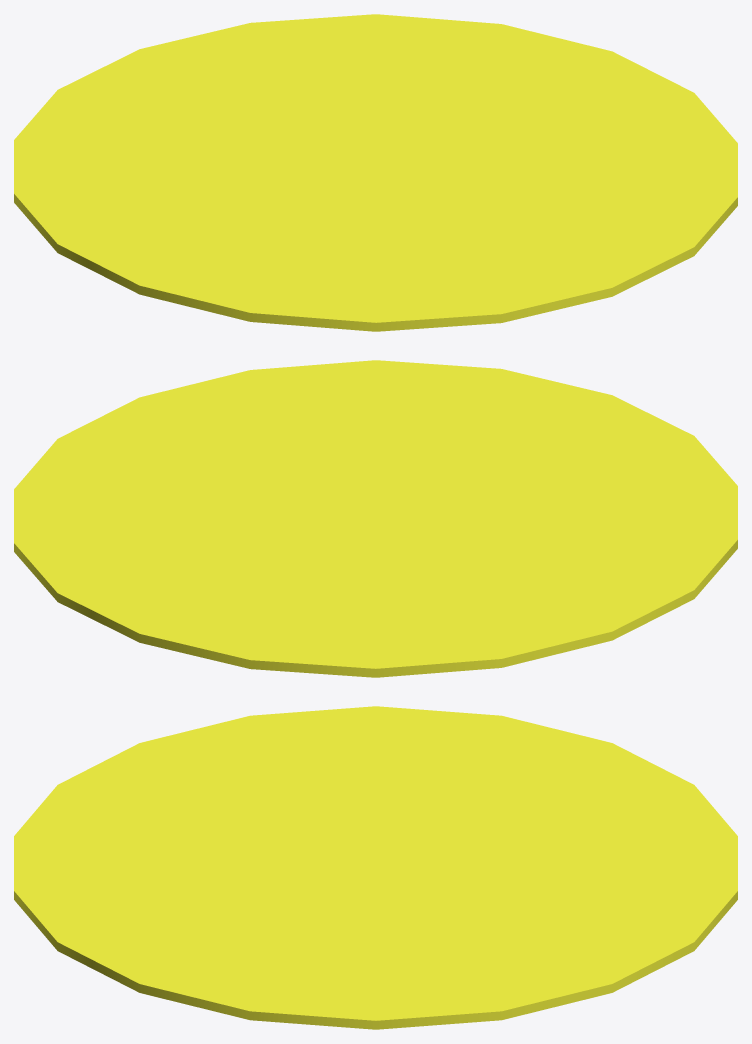
File: Yellow Glass.fbx
3 renders of one model, top to bottom at view 1: azimuth 30°, elevation 25°; view 2: azimuth 150°, elevation 25°; view 3: azimuth 270°, elevation 25°, orthographic.
Visible parts, largest first — view 1: Cylinder001; view 2: Cylinder001; view 3: Cylinder001.
Boxes of the visible parts, left/top/right/bottom form: Cylinder001: left=14, top=14, right=737, bottom=331; Cylinder001: left=14, top=360, right=737, bottom=677; Cylinder001: left=14, top=706, right=737, bottom=1029.
Bounding box in the file's own units: 18.62 × 0.3601 × 18.33.
